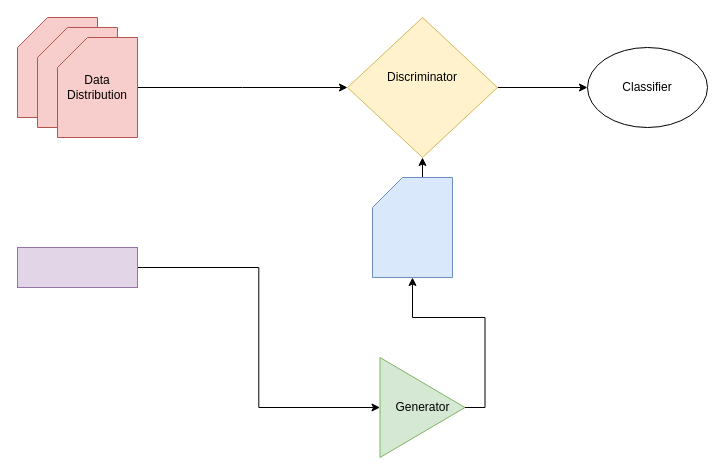
This 725x475 diagram has some shape labels left out. Each missing label, with the box of its shape:
Fake Data: (372, 176, 452, 278)
Latent Distribution: (16, 246, 138, 288)
